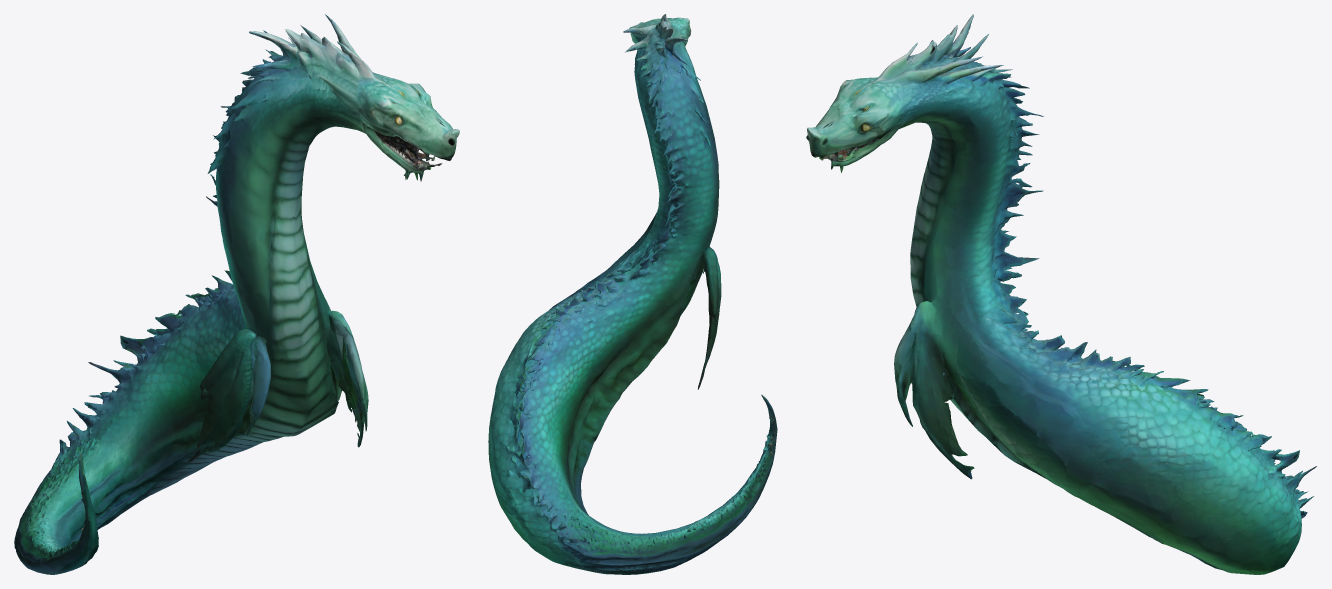
The model's file is ceto__sea-serpent.glb.
The picture shows the model from 3 angles, left to right: view 1: azimuth 30°, elevation 25°; view 2: azimuth 150°, elevation 25°; view 3: azimuth 270°, elevation 25°; orthographic projection. The views are drawn at different scales.
Bounding box in the file's own units: 1.05 × 2 × 1.64.
1 material, 1 textured.
